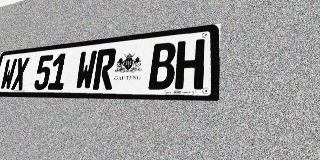1: (47, 53, 69, 90)
5: (33, 54, 54, 90)
B: (148, 42, 177, 90)
H: (175, 39, 205, 89)
R: (92, 48, 117, 90)
W: (74, 50, 98, 90), (0, 58, 17, 90)
X: (11, 57, 30, 90)
